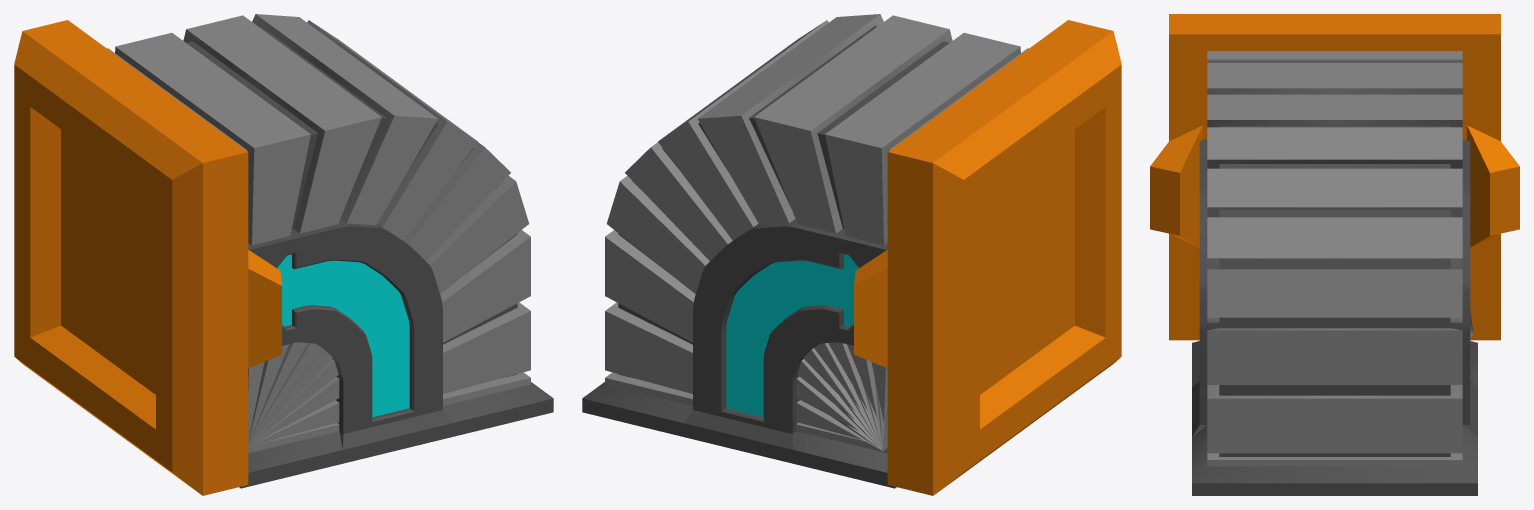
File: SpawnTube001.fbx
The picture shows the model from 3 angles, left to right: view 1: azimuth 30°, elevation 25°; view 2: azimuth 150°, elevation 25°; view 3: azimuth 270°, elevation 25°; orthographic projection. The views are drawn at different scales.
Visible parts, largest first — view 1: SpawnTube, SpawnTubeE; view 2: SpawnTube, SpawnTubeE; view 3: SpawnTube, SpawnTubeE.
Boxes of the visible parts, x1=… form: SpawnTube: x1=107, y1=14, x2=553, y2=488; SpawnTubeE: x1=14, y1=20, x2=281, y2=495; SpawnTube: x1=582, y1=14, x2=1028, y2=488; SpawnTubeE: x1=854, y1=20, x2=1121, y2=495; SpawnTube: x1=1192, y1=51, x2=1477, y2=495; SpawnTubeE: x1=1150, y1=14, x2=1519, y2=340.
Bounding box in the file's own units: 1.35 × 1.17 × 1.23.
